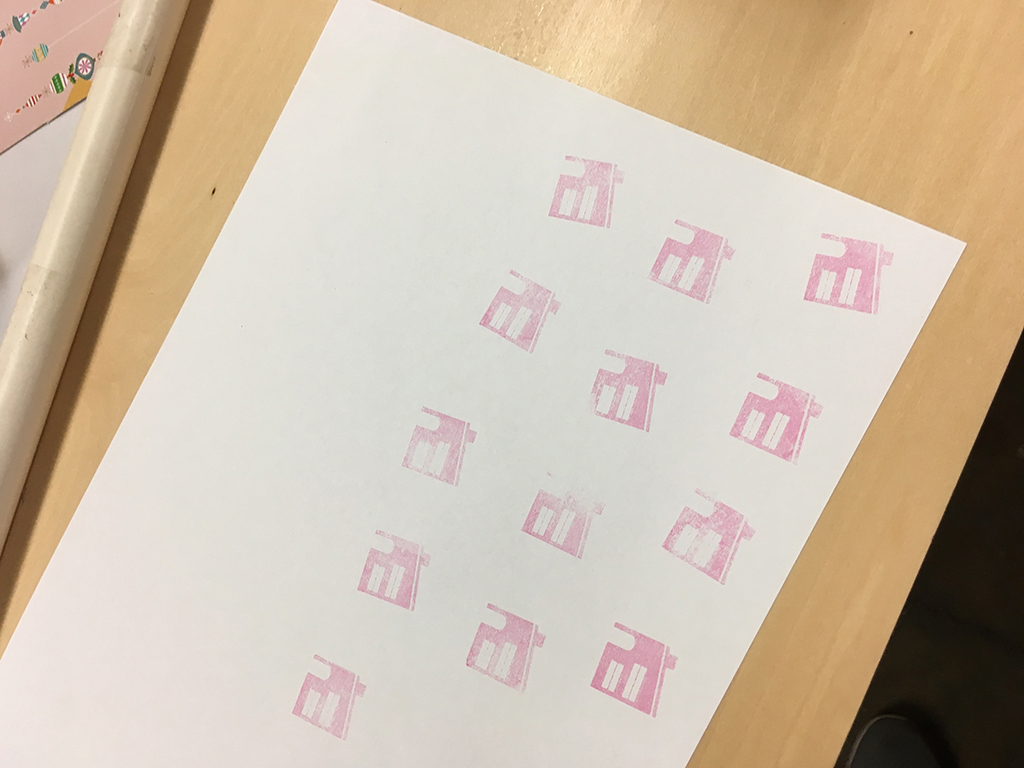house: (723, 360, 826, 471), (656, 481, 758, 590), (470, 253, 570, 363), (643, 205, 746, 311), (585, 616, 683, 725), (797, 219, 900, 322), (458, 595, 559, 699), (513, 461, 614, 562), (350, 518, 440, 627), (583, 338, 673, 443), (393, 390, 483, 493), (286, 646, 375, 748), (540, 147, 634, 235)
